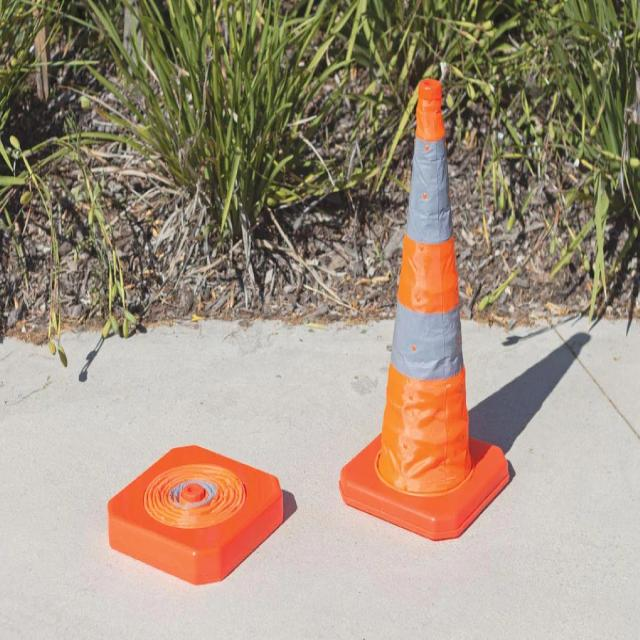Traffic Cone: (300, 29, 553, 599)
